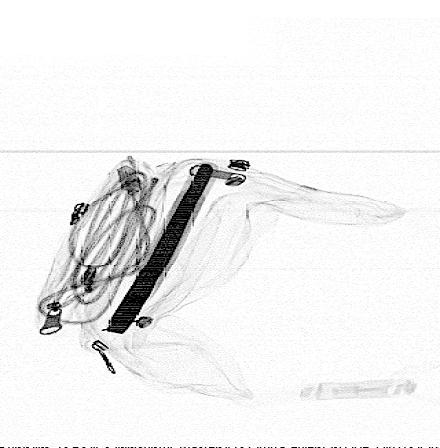Pliers: (102, 162, 221, 335)
